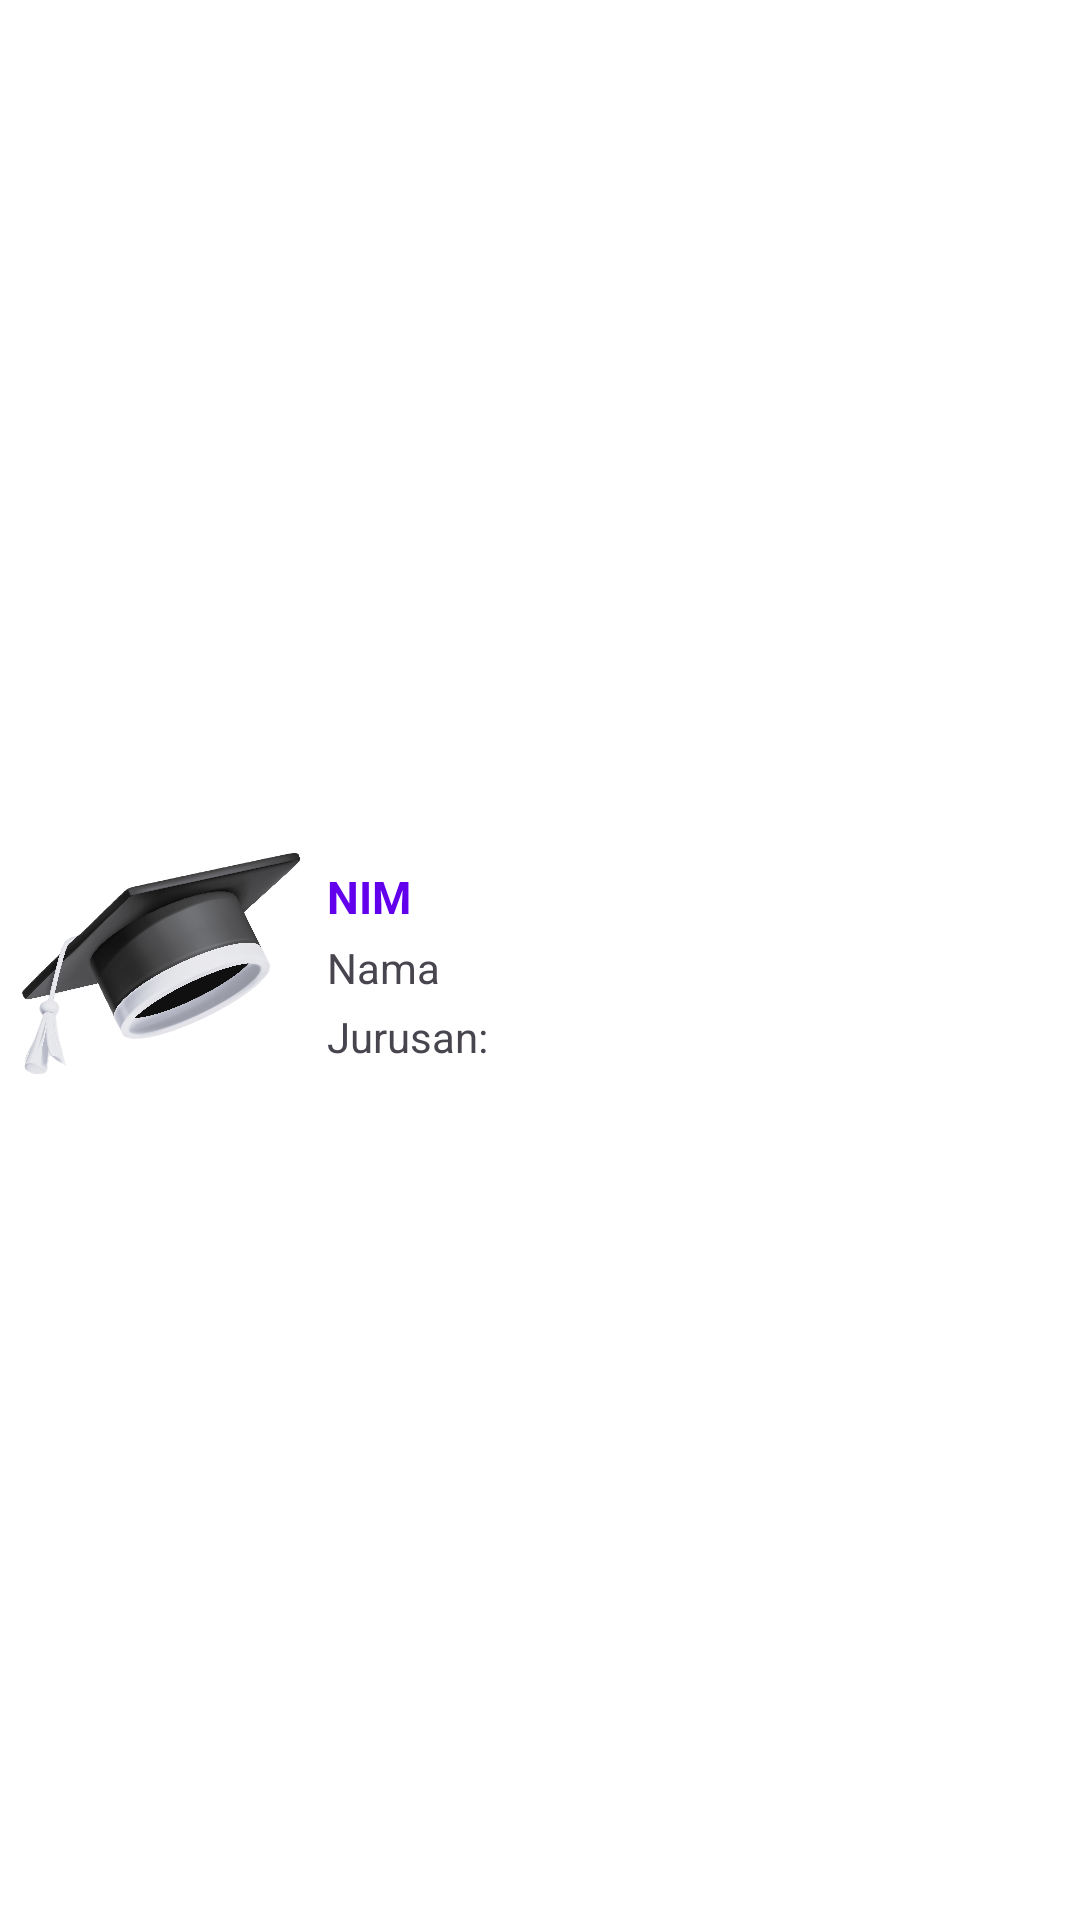

Where icons sit on this 1080*1920 app screen, as rect(x1, y1, x2, y2):
topi wisuda: rect(22, 853, 300, 1074)
